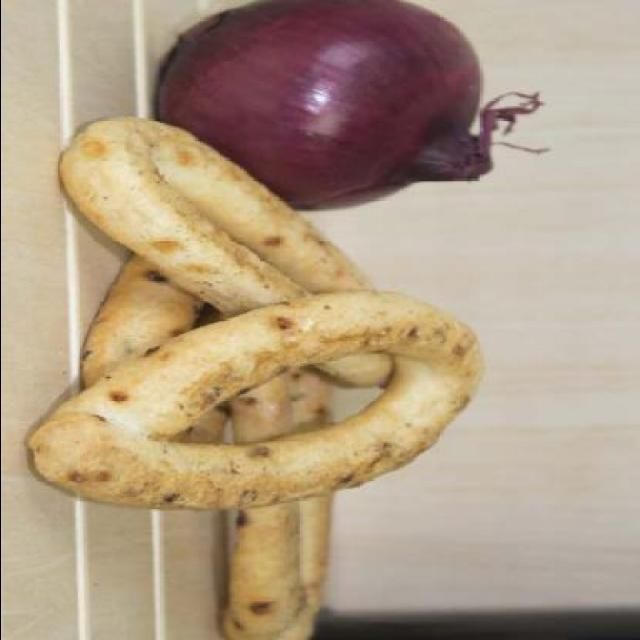Taralli: (26, 119, 480, 635)
